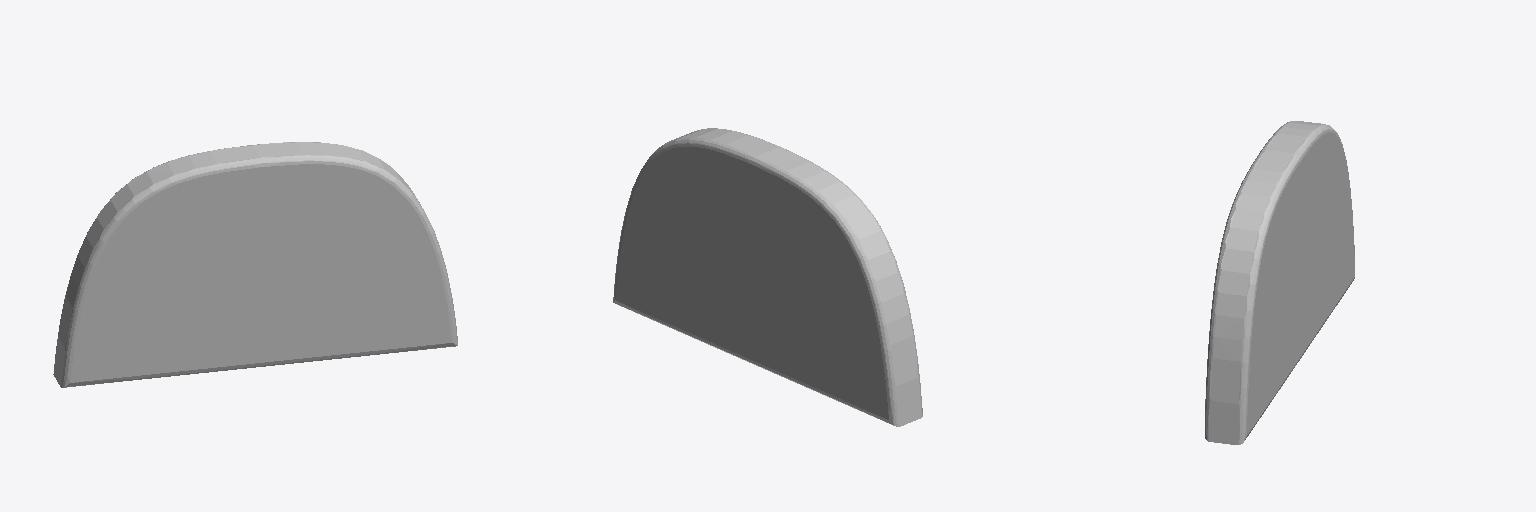
Rendered from Shoulder-Left-Trigger.obj.
The picture shows the model from 3 angles: view 1: azimuth 30°, elevation 25°; view 2: azimuth 150°, elevation 25°; view 3: azimuth 270°, elevation 25°; orthographic projection.
Parts seen in each view (by area): view 1: Shoulder-Left-Trigger; view 2: Shoulder-Left-Trigger; view 3: Shoulder-Left-Trigger.
Boxes of the visible parts, x1=… form: Shoulder-Left-Trigger: x1=53, y1=142, x2=457, y2=387; Shoulder-Left-Trigger: x1=613, y1=128, x2=922, y2=426; Shoulder-Left-Trigger: x1=1205, y1=121, x2=1354, y2=444.
Bounding box in the file's own units: 27.5 × 15.75 × 10.3.